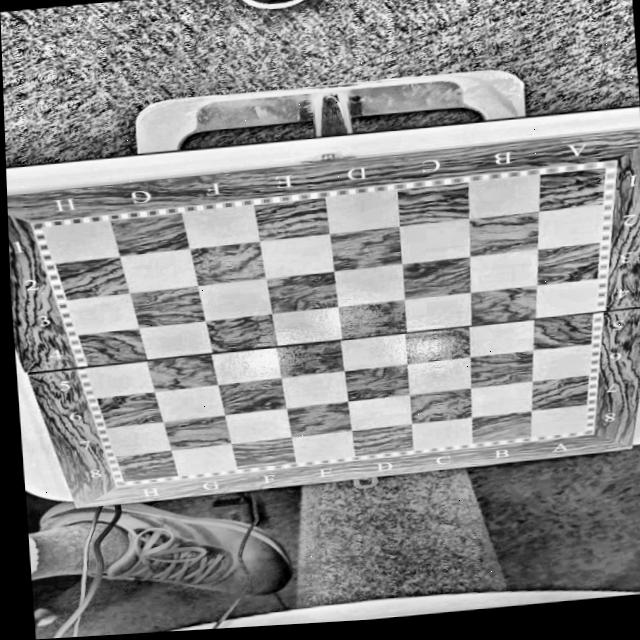chessboard: (7, 125, 640, 498)
